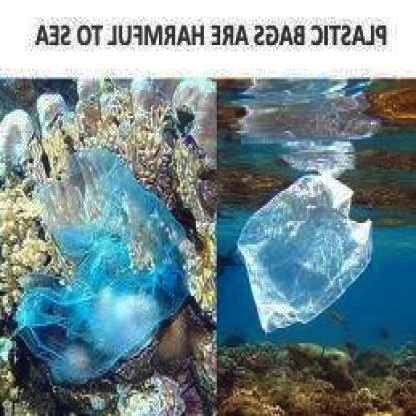pbag: (16, 150, 191, 384), (236, 171, 373, 332)
